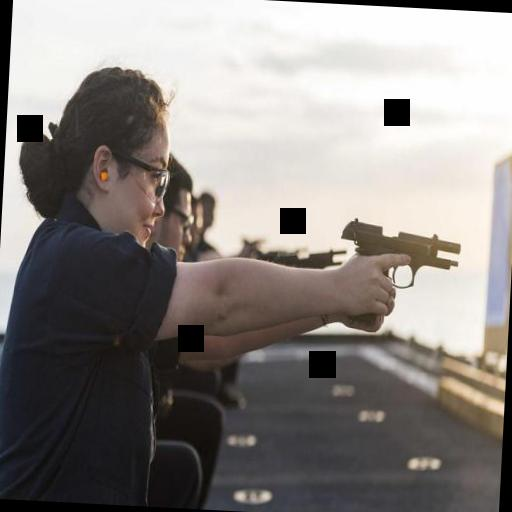Handgun: (332, 208, 462, 336)
